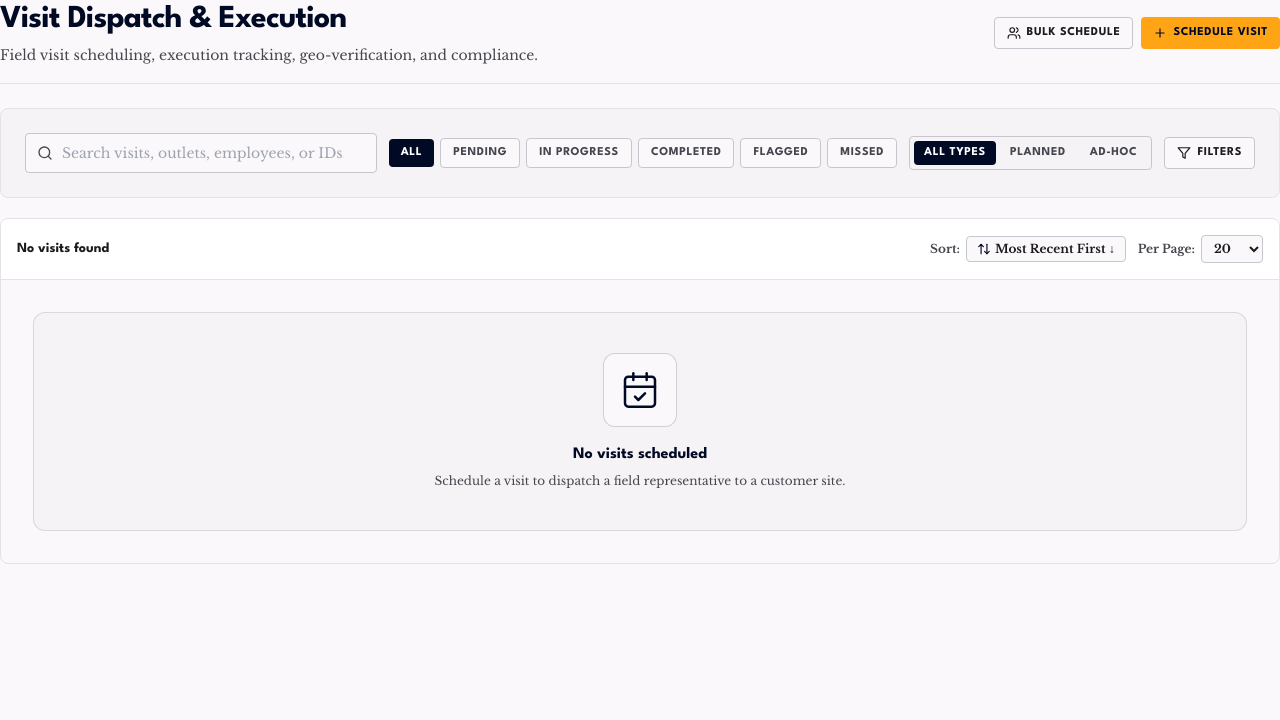
Test: VisitsPage - admin › warns when no employee profiles exist instead of failing silently
Step 1. Click the button "Schedule Visit" → (1211, 33), box [1141,17,1279,49]
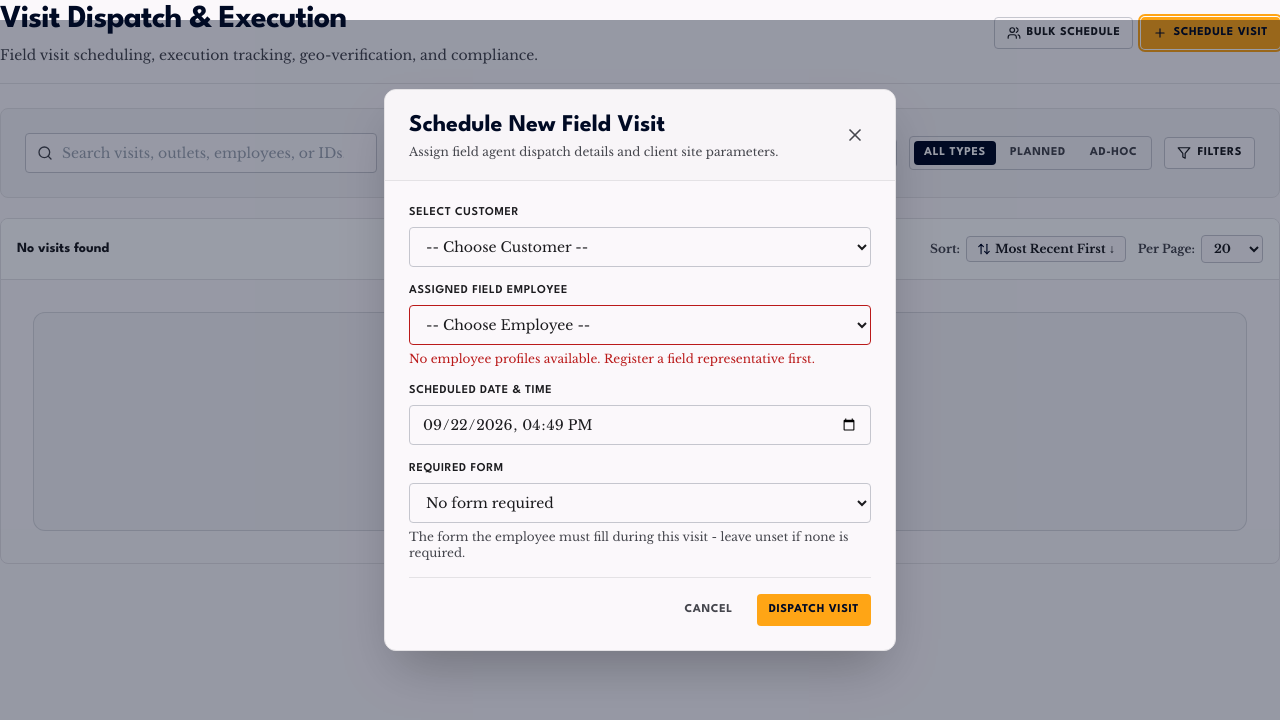
Check: the text "No employee profiles available" is shown, box [409,351,815,366]
